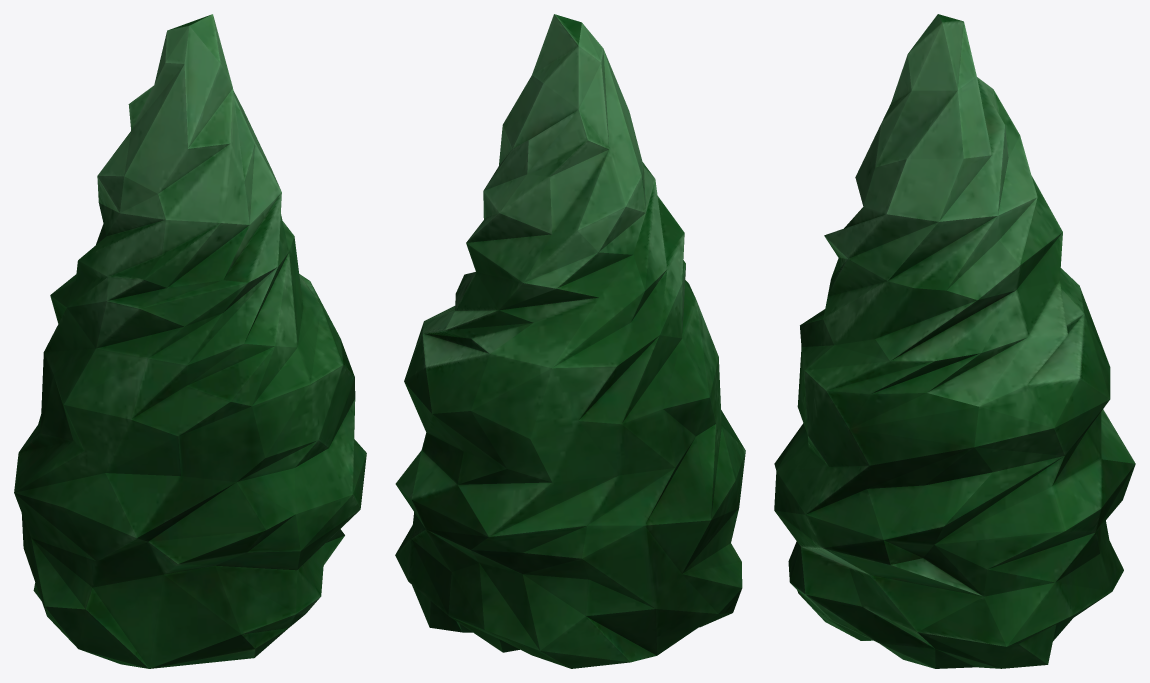
Rendered from 5mED_iGhudj.glb.
3 renders of one model, left to right at view 1: azimuth 30°, elevation 25°; view 2: azimuth 150°, elevation 25°; view 3: azimuth 270°, elevation 25°, orthographic. The views are drawn at different scales.
Parts seen in each view (by area): view 1: FirTree_mesh; view 2: FirTree_mesh; view 3: FirTree_mesh.
Boxes of the visible parts, x1,y1,x2,y2 form: FirTree_mesh: (14, 14, 366, 668); FirTree_mesh: (395, 14, 745, 668); FirTree_mesh: (774, 14, 1135, 668).
Size of the model in its own units: 0.5324 by 1 by 0.5354.
Materials: 1 (1 with a texture image).
